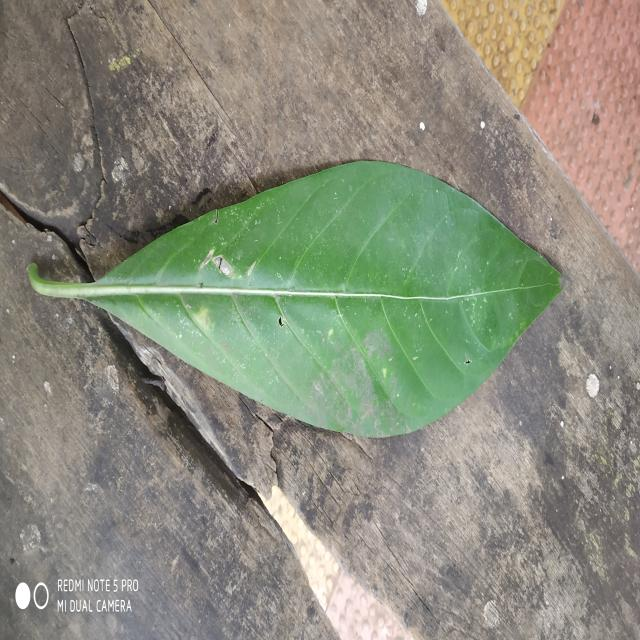nooni: (29, 162, 561, 438)
